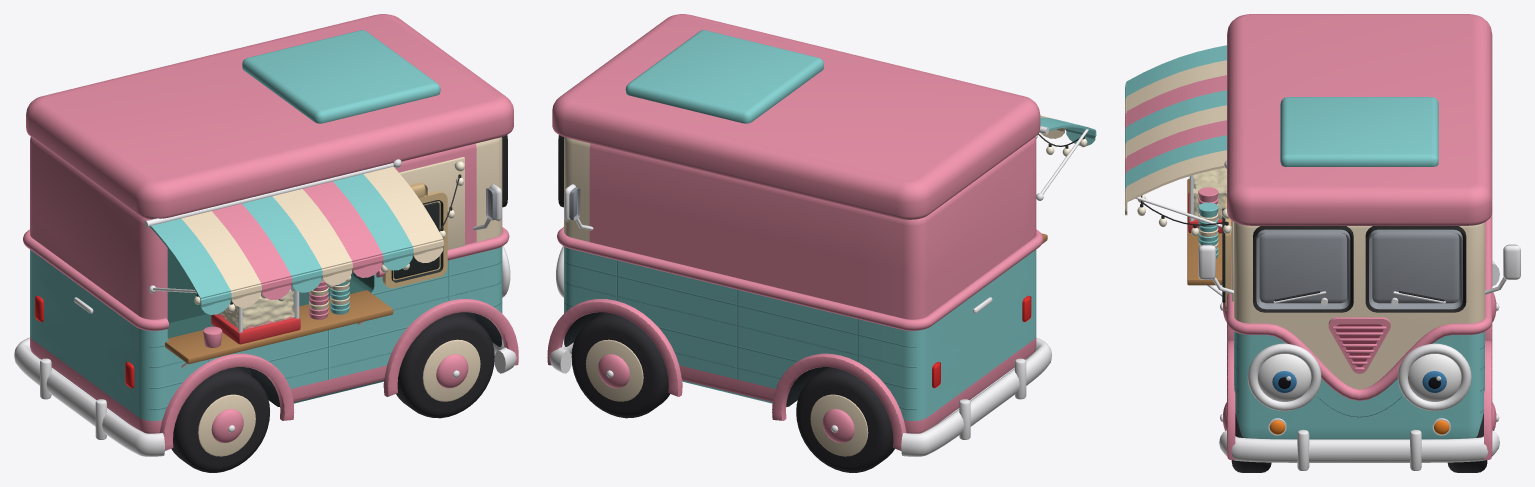
File: IceCreamTruck.obj
3 renders of one model, left to right at view 1: azimuth 30°, elevation 25°; view 2: azimuth 150°, elevation 25°; view 3: azimuth 270°, elevation 25°, orthographic.
Parts seen in each view (by area): view 1: Roof, Body, Awning, Roof_Vent, Wheel_FL, Wheel_RL, Fenders, Bumper_Rear, Counter, Popcorn_Machine, Trim_Stripe, Side_Panel (+5 smaller); view 2: Body, Roof, Roof_Vent, Wheel_FR, Wheel_RR, Trim_Stripe, Fenders, Bumper_Rear, Awning, Mirrors; view 3: Roof, Body, Windshield, Awning, Roof_Vent, Bumper_Front, Trim_Stripe, Eye_L, Eye_R, Grille, Fenders, Mirrors (+9 smaller).
Boxes of the visible parts, <box> form: Roof: <box>26,14,513,219</box>; Body: <box>30,137,502,433</box>; Awning: <box>144,159,443,314</box>; Roof_Vent: <box>242,30,440,123</box>; Wheel_FL: <box>396,312,494,418</box>; Wheel_RL: <box>171,367,269,472</box>; Fenders: <box>159,299,518,450</box>; Bumper_Rear: <box>14,337,164,456</box>; Counter: <box>165,290,393,368</box>; Popcorn_Machine: <box>211,286,300,344</box>; Trim_Stripe: <box>23,227,509,330</box>; Side_Panel: <box>399,157,464,249</box>; Body: <box>564,137,1036,433</box>; Roof: <box>552,14,1040,219</box>; Roof_Vent: <box>625,30,823,123</box>; Wheel_FR: <box>571,312,669,418</box>; Wheel_RR: <box>796,367,894,472</box>; Trim_Stripe: <box>557,227,1043,330</box>; Fenders: <box>547,299,1027,450</box>; Bumper_Rear: <box>901,337,1051,456</box>; Awning: <box>1036,115,1096,200</box>; Mirrors: <box>564,184,593,230</box>; Roof: <box>1227,14,1492,225</box>; Body: <box>1234,222,1484,439</box>; Windshield: <box>1253,226,1466,312</box>; Awning: <box>1125,45,1231,233</box>; Roof_Vent: <box>1280,97,1438,166</box>; Bumper_Front: <box>1219,429,1499,470</box>; Trim_Stripe: <box>1227,212,1492,400</box>; Eye_L: <box>1247,343,1321,411</box>; Eye_R: <box>1397,343,1471,411</box>; Grille: <box>1328,317,1390,373</box>; Fenders: <box>1227,322,1492,459</box>; Mirrors: <box>1198,244,1520,294</box>.
Bounding box in the file's own units: 3.95 × 3 × 3.38.
Materials: 25 (1 with a texture image).
